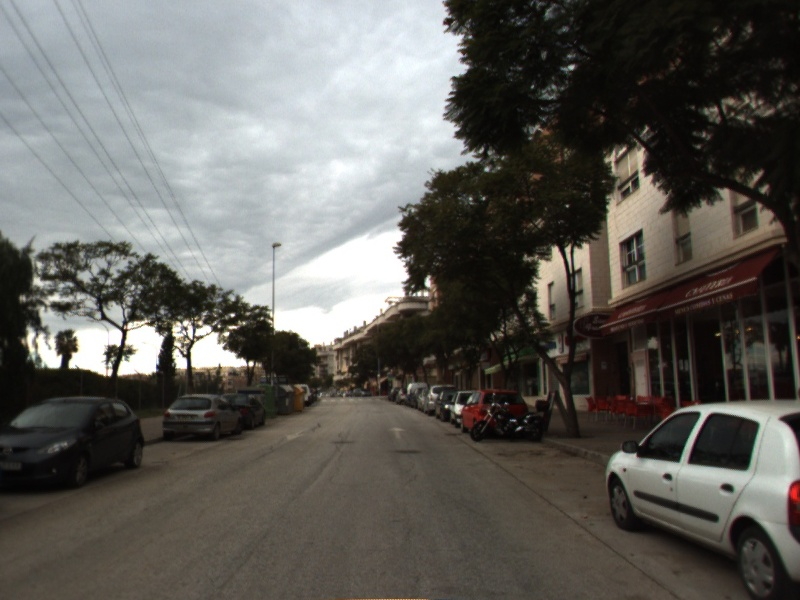STRAIGHT: (385, 424, 410, 441)
